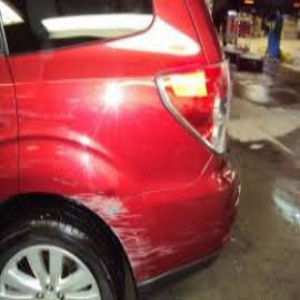bumper: (75, 198, 160, 248)
